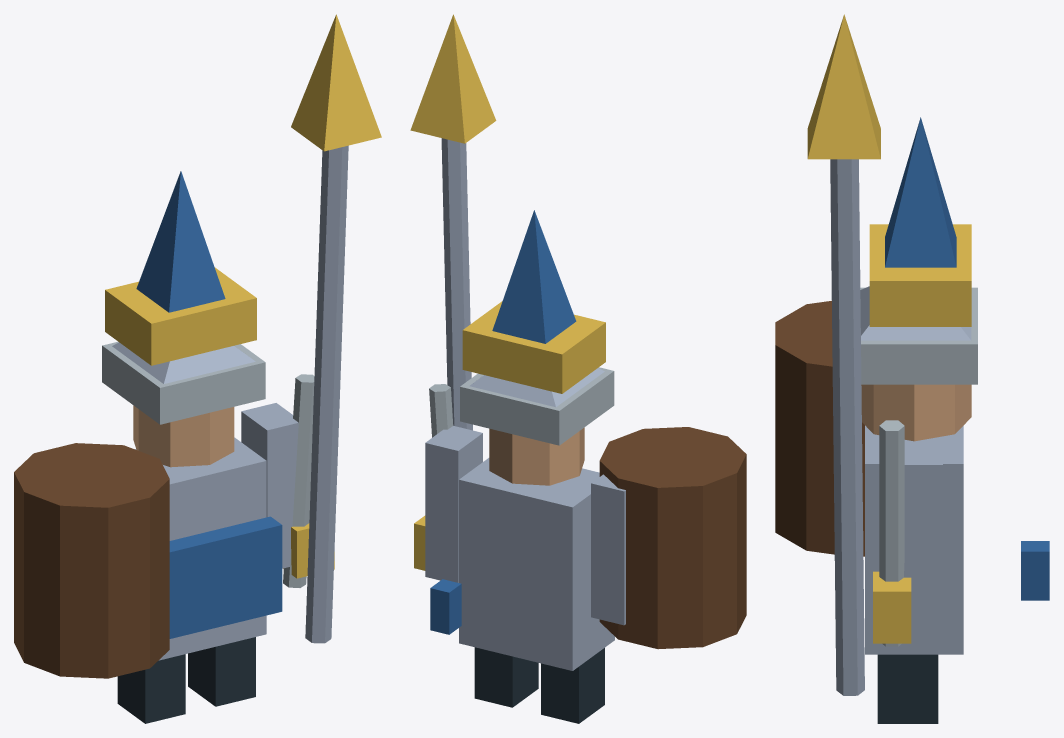
The model's file is stone-spearman.obj.
3 views of the same model, side by side, from view 1: azimuth 30°, elevation 25°; view 2: azimuth 150°, elevation 25°; view 3: azimuth 270°, elevation 25° (orthographic). The views are drawn at different scales.
Visible parts, largest first — view 1: infantry; view 2: infantry; view 3: infantry.
Part boxes in pixels (x1=…): infantry: x1=14, y1=14, x2=381, y2=723; infantry: x1=410, y1=14, x2=746, y2=723; infantry: x1=775, y1=14, x2=1049, y2=723.
Size of the model in its own units: 1.34 by 2.58 by 0.8618.
